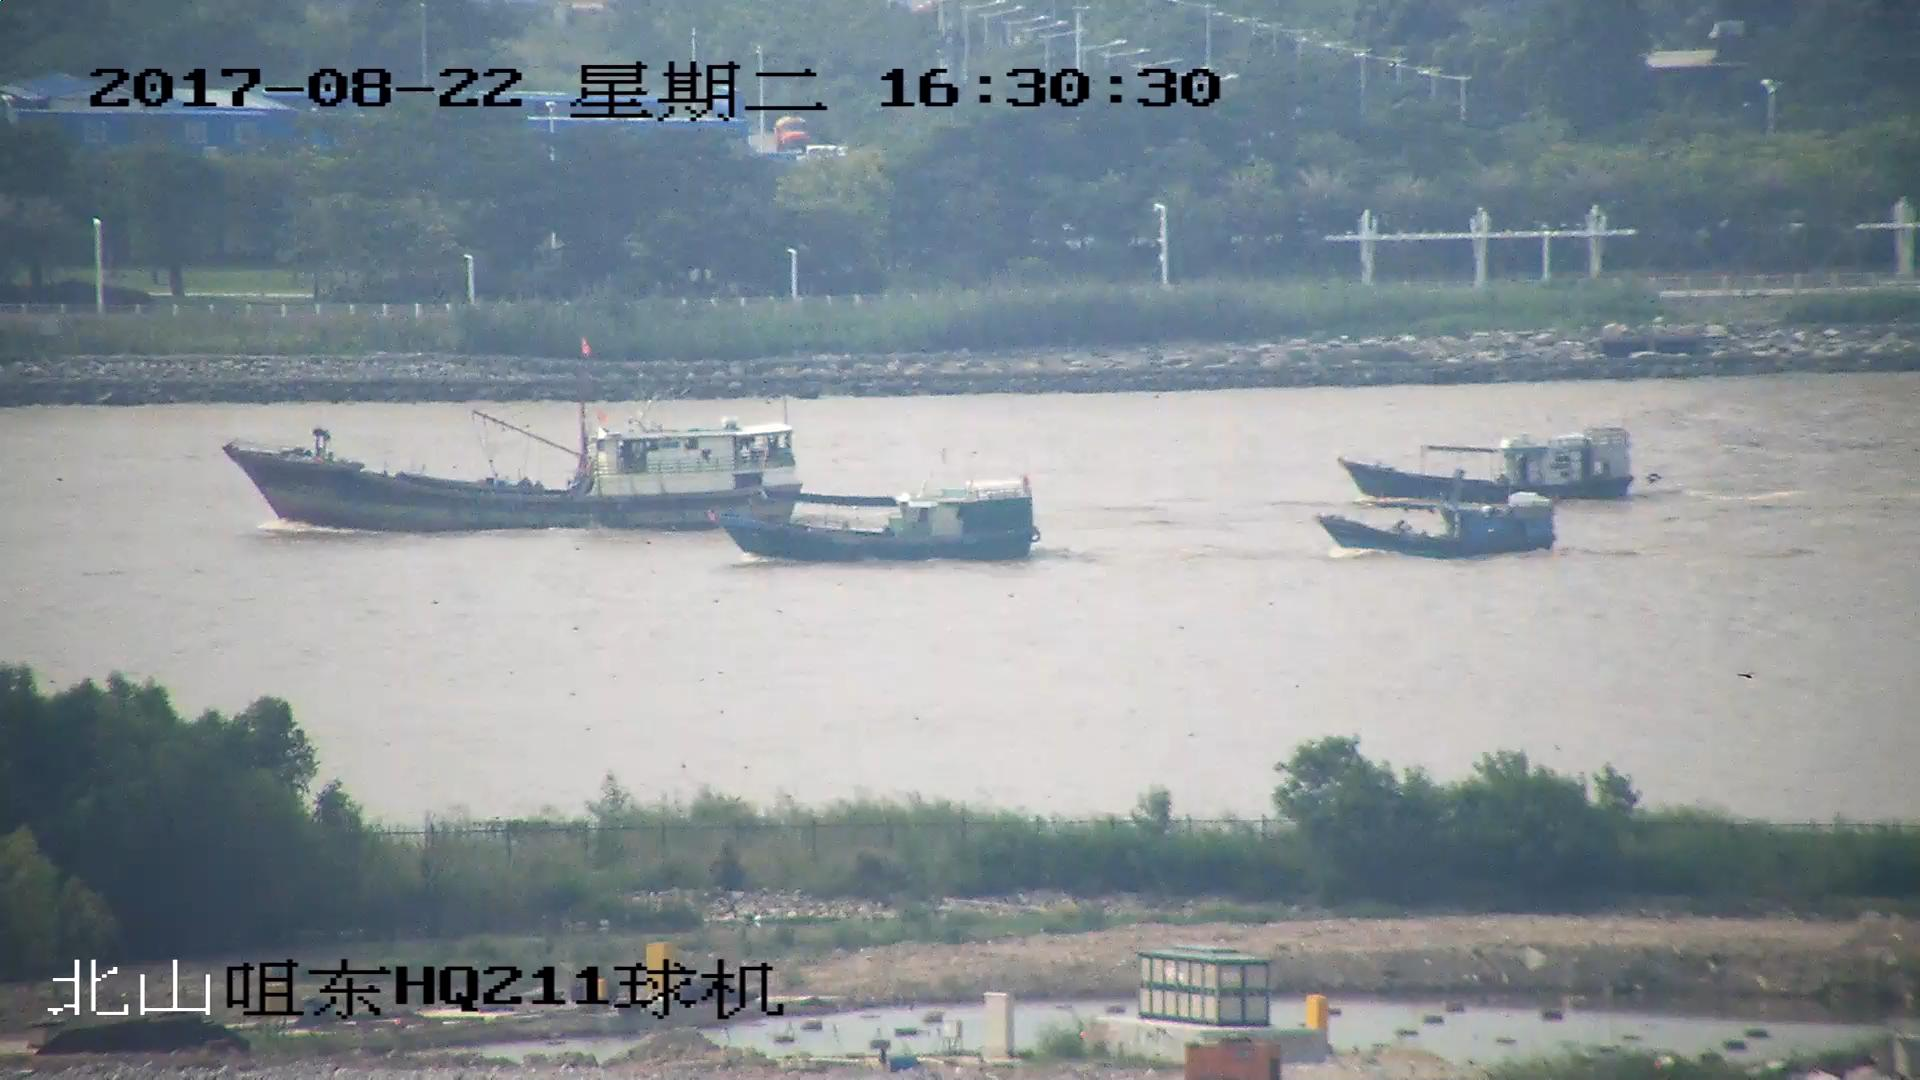fishing boat: (219, 344, 806, 535), (714, 476, 1035, 558), (1344, 429, 1635, 510), (1323, 493, 1555, 559)
